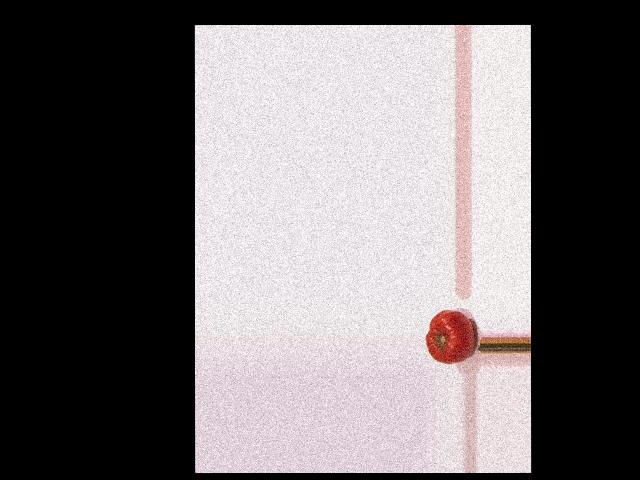tomato: (426, 310, 474, 363)
